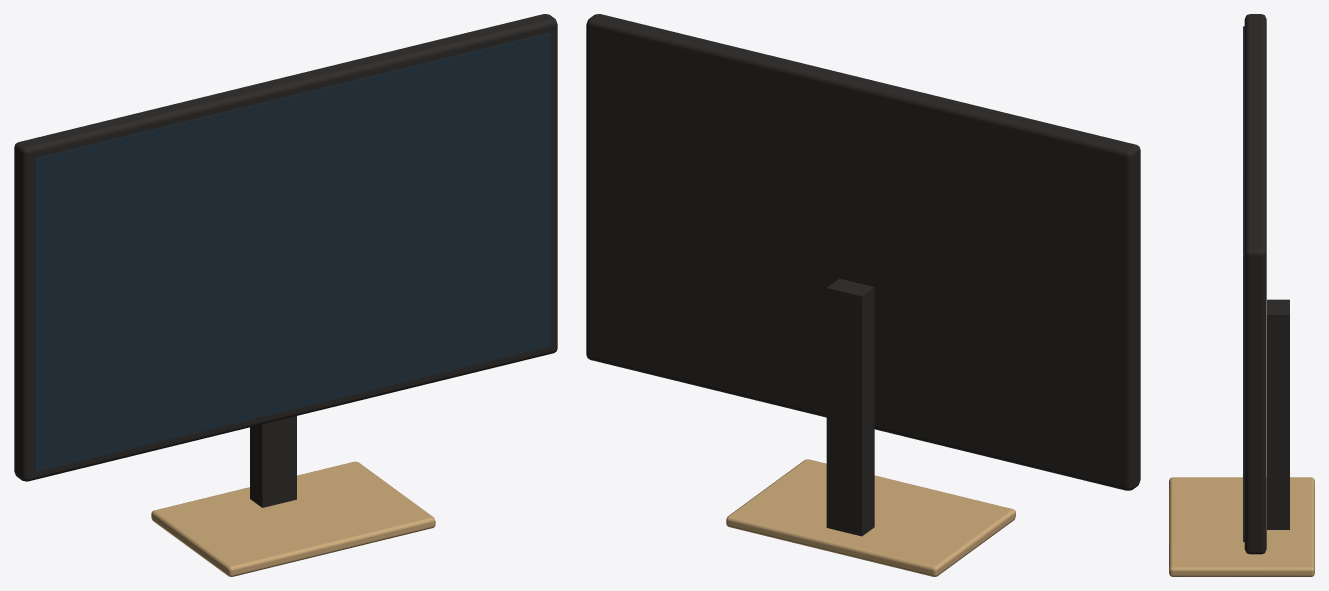
The model's file is display.glb.
3 views of the same model, side by side, from view 1: azimuth 30°, elevation 25°; view 2: azimuth 150°, elevation 25°; view 3: azimuth 270°, elevation 25° (orthographic). The views are drawn at different scales.
Visible parts, largest first — view 1: display_LOD0:SCREEN_DYNAMIC, display_LOD0:graphite, display_LOD0:bronze; view 2: display_LOD0:graphite, display_LOD0:bronze; view 3: display_LOD0:graphite, display_LOD0:bronze, display_LOD0:SCREEN_DYNAMIC.
Boxes of the visible parts, x1,y1,x2,y2 form: display_LOD0:SCREEN_DYNAMIC: [34, 32, 550, 472]; display_LOD0:graphite: [14, 14, 557, 507]; display_LOD0:bronze: [151, 461, 435, 576]; display_LOD0:graphite: [586, 14, 1140, 536]; display_LOD0:bronze: [726, 459, 1015, 576]; display_LOD0:graphite: [1244, 14, 1289, 554]; display_LOD0:bronze: [1169, 477, 1314, 576]; display_LOD0:SCREEN_DYNAMIC: [1243, 26, 1244, 541].
Size of what is drawn, in the model's own units: 0.62 by 0.485 by 0.16.
